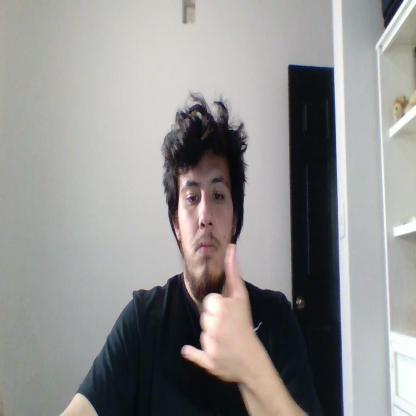Y: (181, 244, 254, 382)
